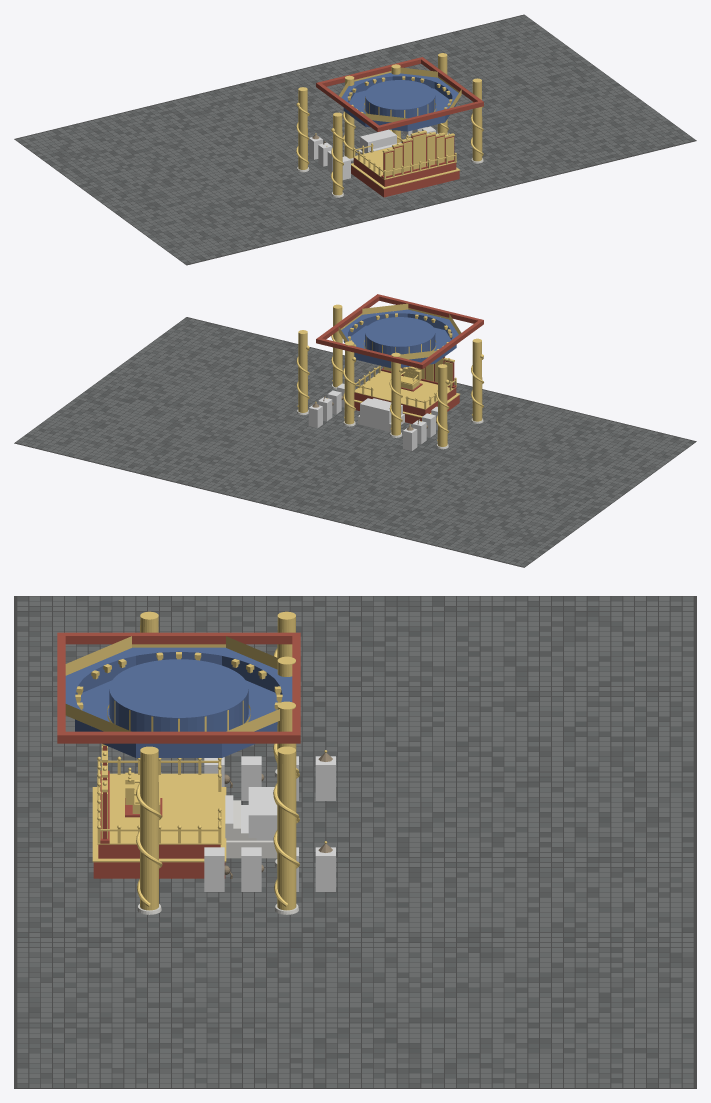
The model's file is taihe.glb.
The picture shows the model from 3 angles, top to bottom: view 1: azimuth 30°, elevation 25°; view 2: azimuth 150°, elevation 25°; view 3: azimuth 270°, elevation 25°; orthographic projection. The views are drawn at different scales.
Parts seen in each view (by area): view 1: floor_tiles, floor_base, merged_gold_lacquer, merged_red_lacquer, merged_caisson_blue, COL_steps; view 2: floor_tiles, floor_base, merged_gold_lacquer, merged_caisson_blue, merged_red_lacquer, COL_steps; view 3: floor_tiles, floor_base, merged_gold_lacquer, merged_caisson_blue, merged_red_lacquer, COL_steps, merged_white_marble, COL_orn_甪端.001, COL_orn_象.001, COL_orn_香亭, COL_orn_香亭.001, COL_orn_甪端.
Boxes of the visible parts, x1,y1,x2,y2 form: floor_tiles: (15, 15, 694, 264); floor_base: (14, 14, 696, 265); merged_gold_lacquer: (296, 53, 483, 195); merged_red_lacquer: (316, 57, 483, 197); merged_caisson_blue: (341, 73, 458, 131); COL_steps: (360, 129, 396, 153); floor_tiles: (16, 317, 694, 566); floor_base: (14, 317, 696, 567); merged_gold_lacquer: (296, 303, 483, 446); merged_caisson_blue: (341, 309, 458, 367); merged_red_lacquer: (316, 294, 483, 423); COL_steps: (360, 398, 391, 431); floor_tiles: (17, 596, 693, 1087); floor_base: (14, 596, 696, 1088); merged_gold_lacquer: (65, 611, 327, 910); merged_caisson_blue: (65, 647, 292, 757); merged_red_lacquer: (57, 632, 300, 878); COL_steps: (248, 787, 277, 840); merged_white_marble: (225, 800, 277, 858); COL_orn_甪端.001: (241, 847, 261, 891); COL_orn_象.001: (204, 847, 224, 891); COL_orn_香亭: (315, 756, 335, 800); COL_orn_香亭.001: (315, 847, 335, 891); COL_orn_甪端: (241, 756, 261, 800).
Size of the model in its own units: 62.8 by 9.52 by 36.8.
